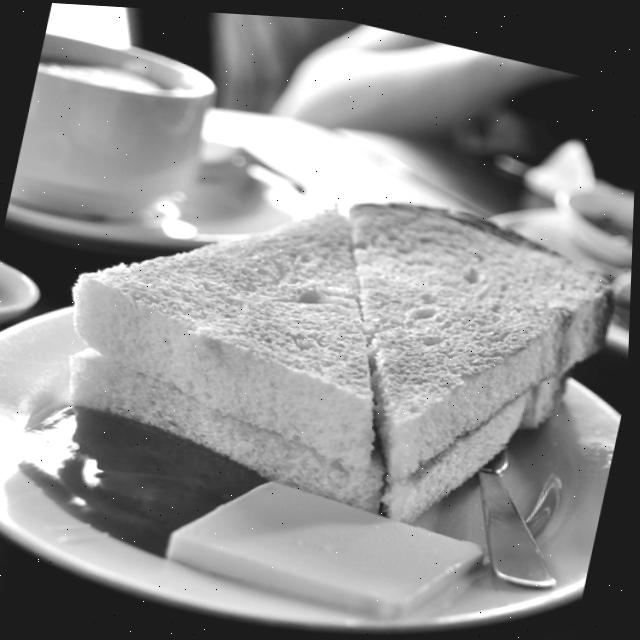面包点心: (0, 29, 639, 640)
